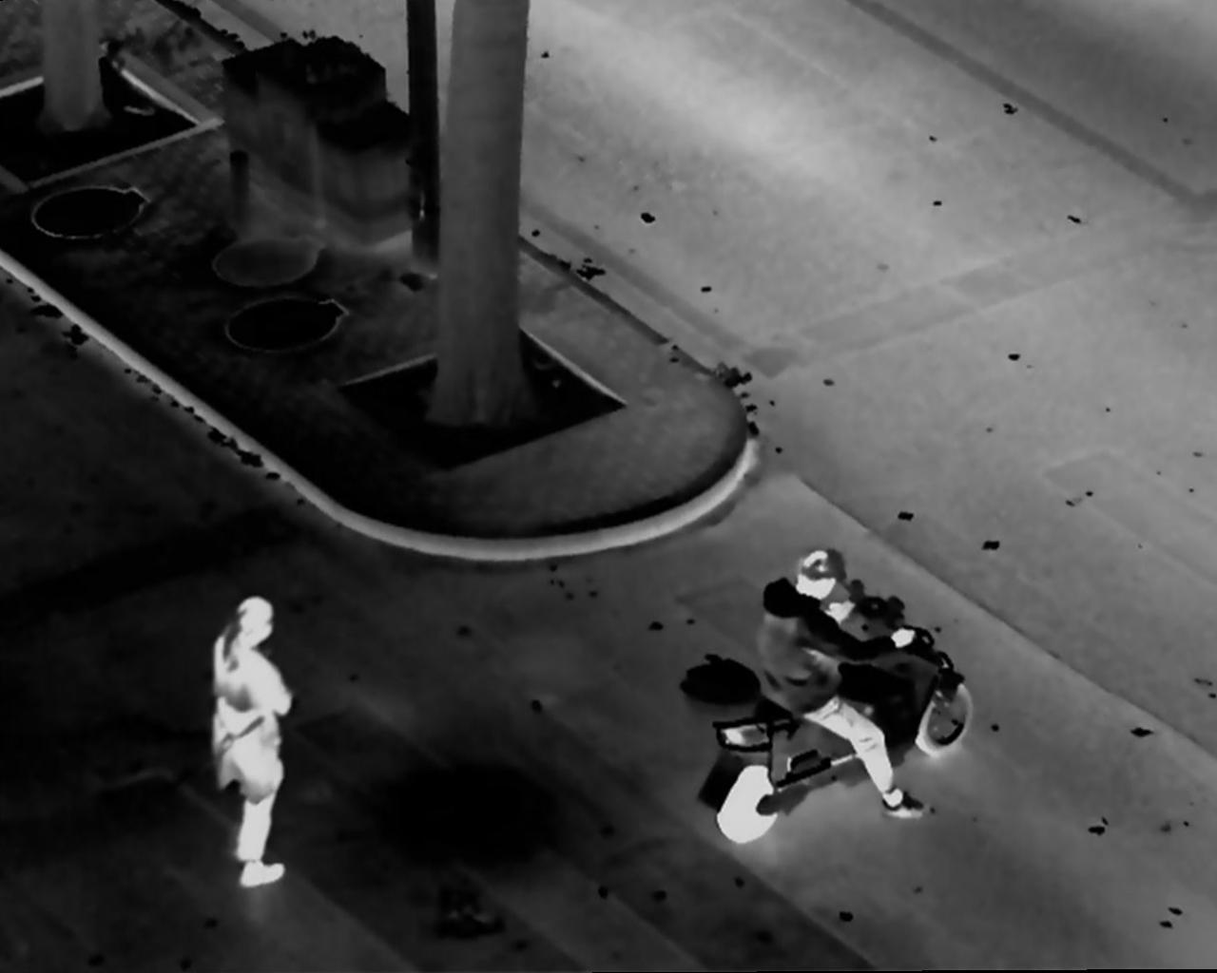person: (758, 543, 955, 831), (195, 582, 290, 894)
